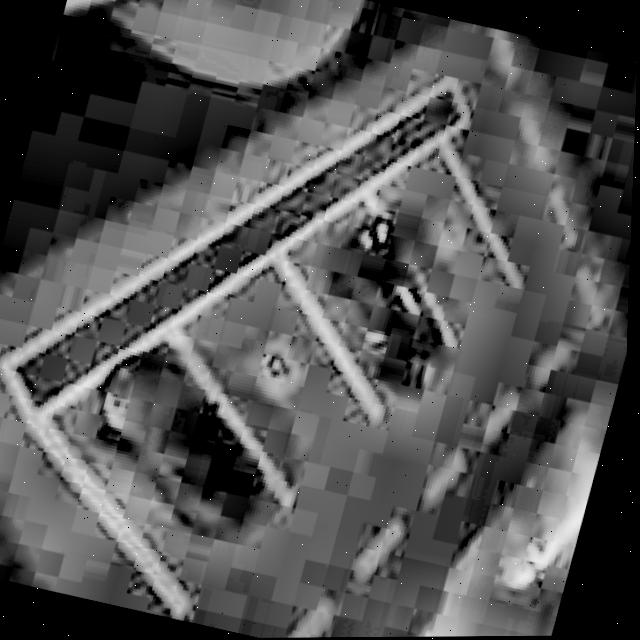car: (71, 341, 304, 549), (301, 218, 480, 403)
